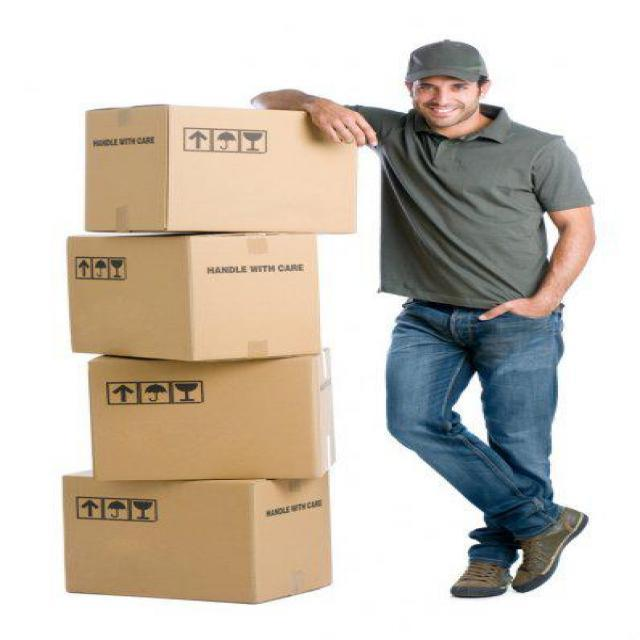box: (75, 86, 385, 240), (51, 334, 347, 480), (42, 220, 322, 370), (51, 466, 347, 606)
